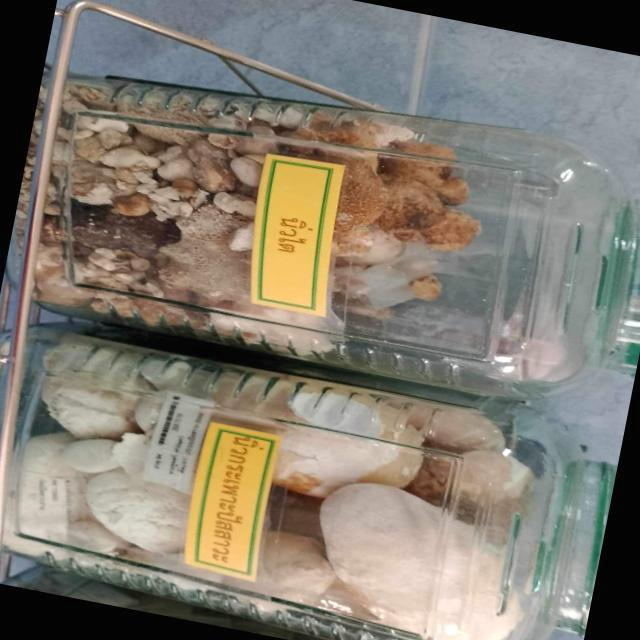General: (1, 2, 637, 637), (12, 324, 540, 637)
Pathological: (27, 72, 622, 392)
Sharps: (495, 510, 521, 615)
